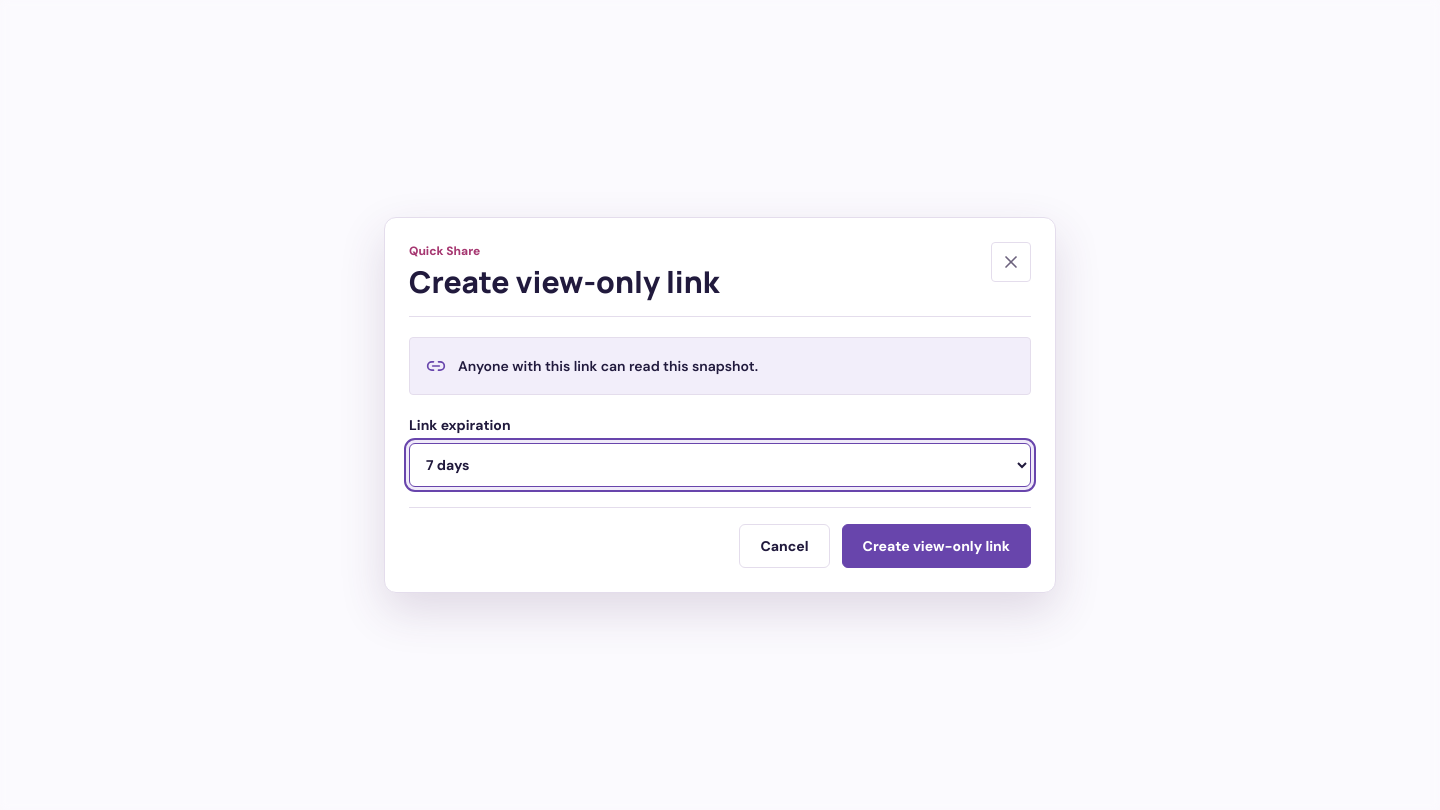
Test: QuickShareDialog › copies the public URL and never renders the management token
Click the button "Create view-only link": (936, 546) [842,524,1031,568]
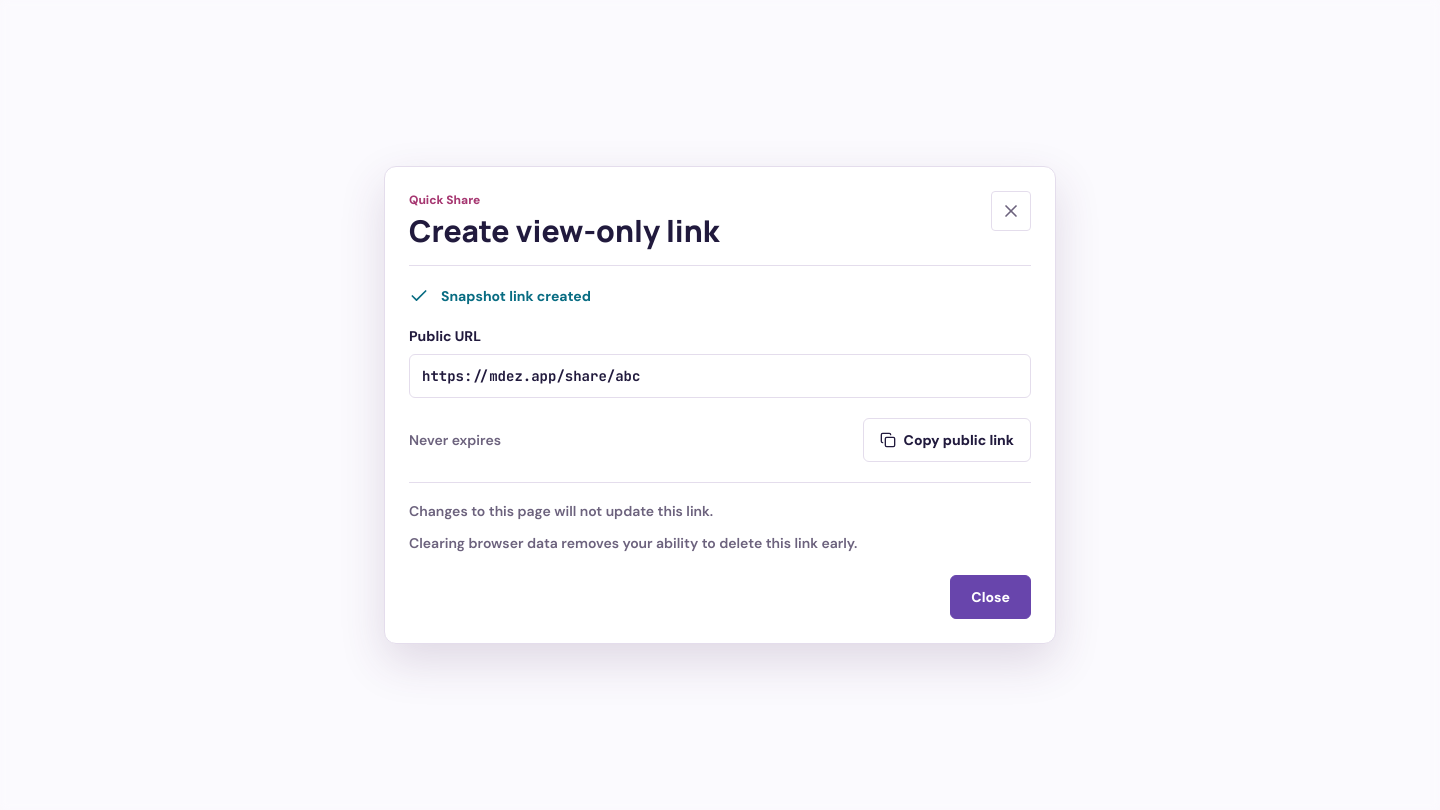
Click the button "Copy public link": (947, 440) [863,418,1031,462]
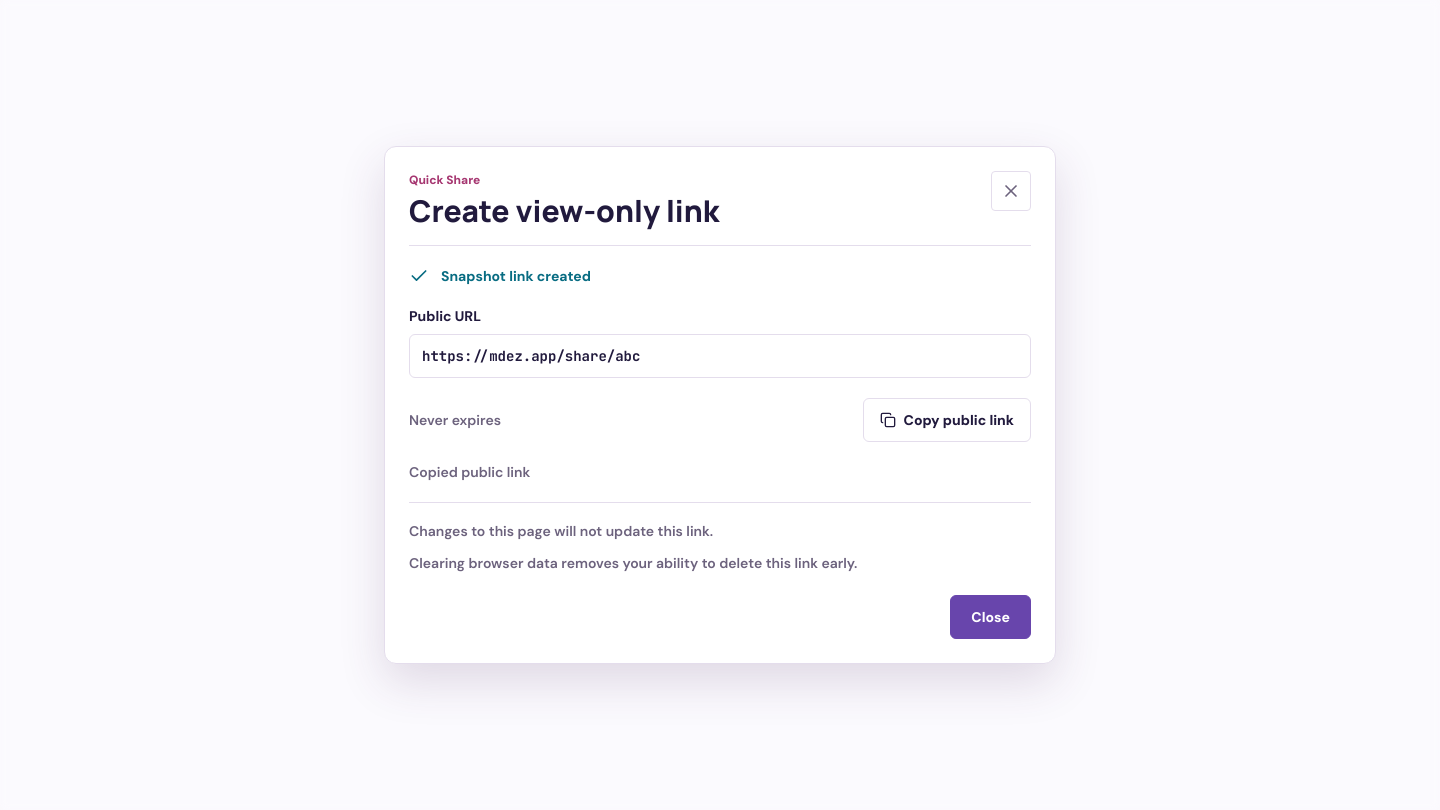
expect the message reads "Copied public link": met, box [409,463,530,481]
